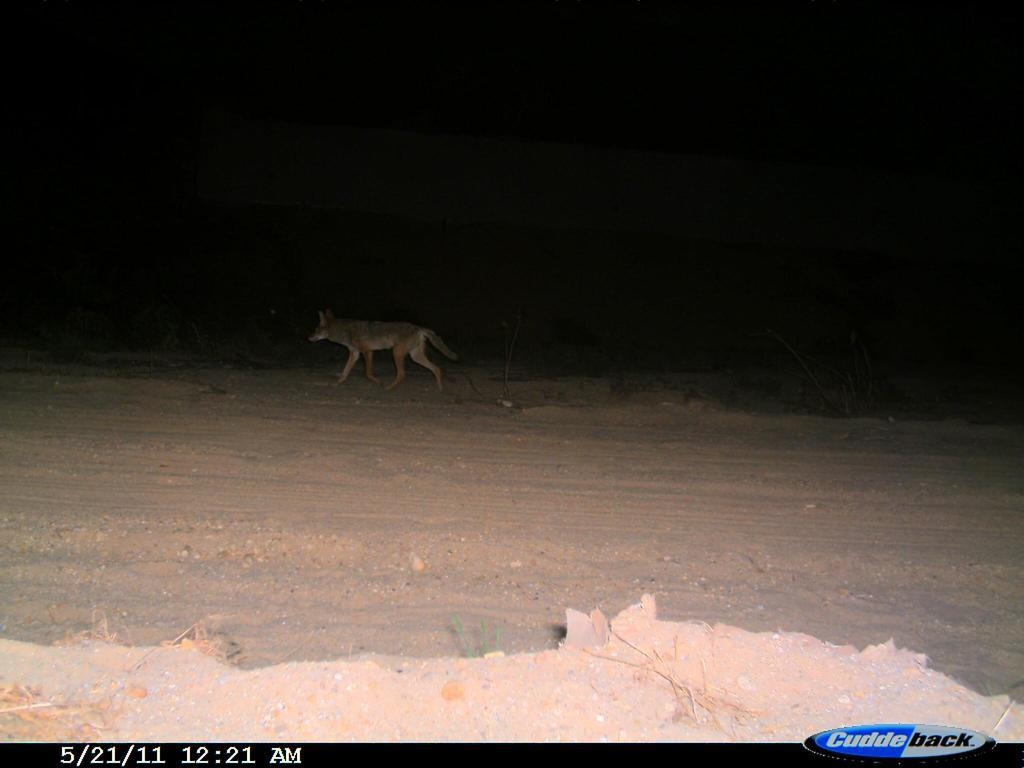coyote: (307, 305, 463, 402)
